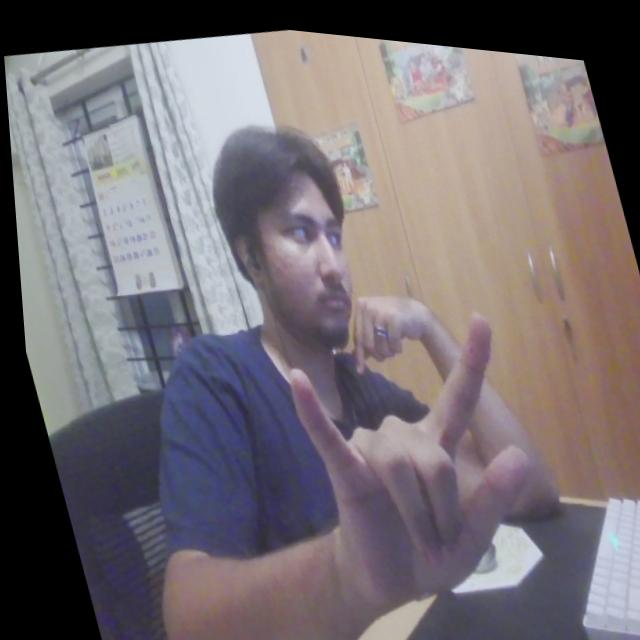iloveyou: (261, 273, 568, 635)
